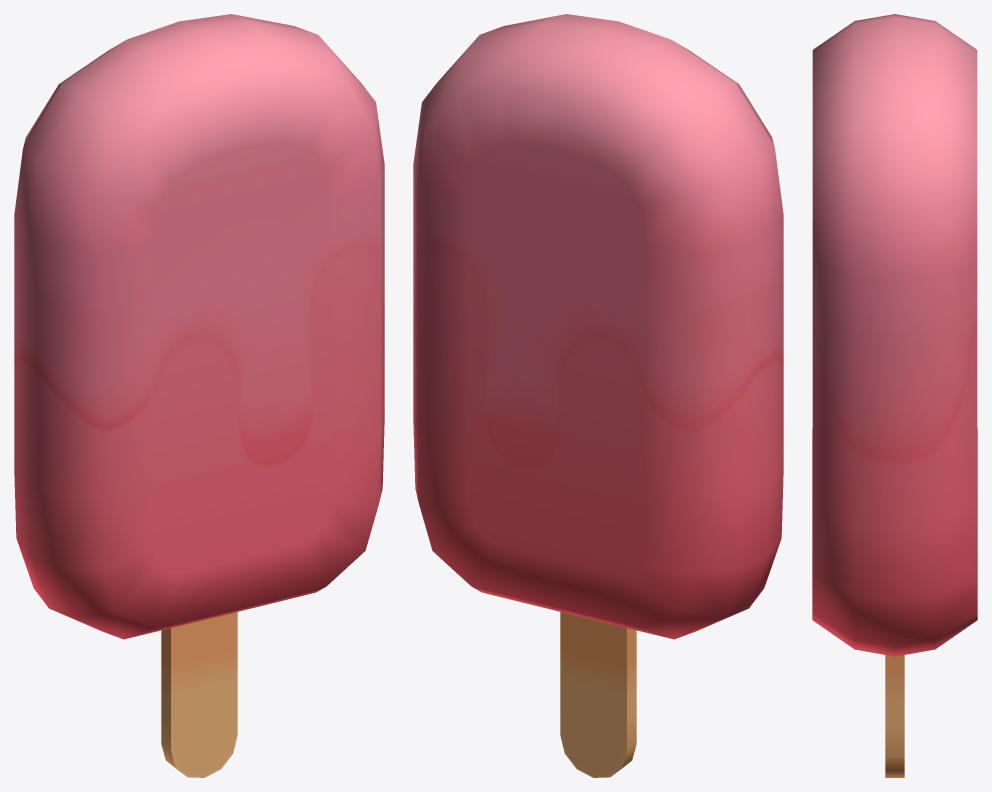
Rendered from IceCreamStick.FBX.
The picture shows the model from 3 angles, left to right: view 1: azimuth 30°, elevation 25°; view 2: azimuth 150°, elevation 25°; view 3: azimuth 270°, elevation 25°; orthographic projection.
Parts seen in each view (by area): view 1: IceCreamStick; view 2: IceCreamStick; view 3: IceCreamStick.
Boxes of the visible parts, <box> form: IceCreamStick: <box>14,14,384,777</box>; IceCreamStick: <box>413,14,783,777</box>; IceCreamStick: <box>812,14,977,777</box>.
Bounding box in the file's own units: 44.49 × 92.55 × 18.79.
